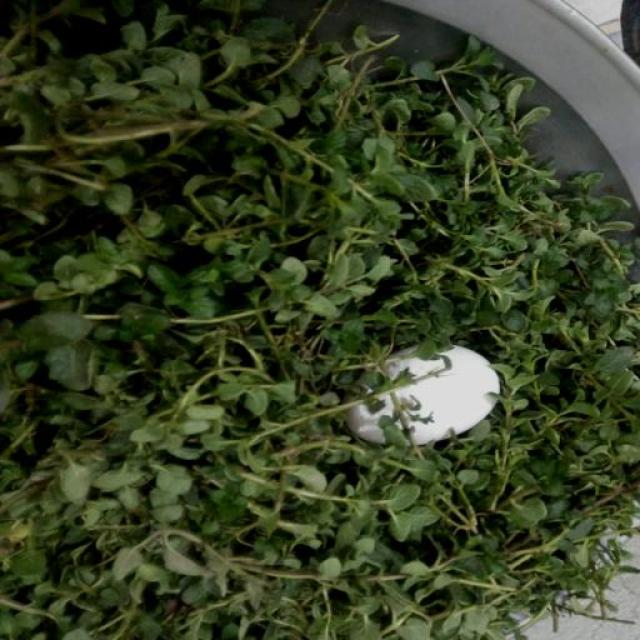telur: (335, 339, 512, 459)
